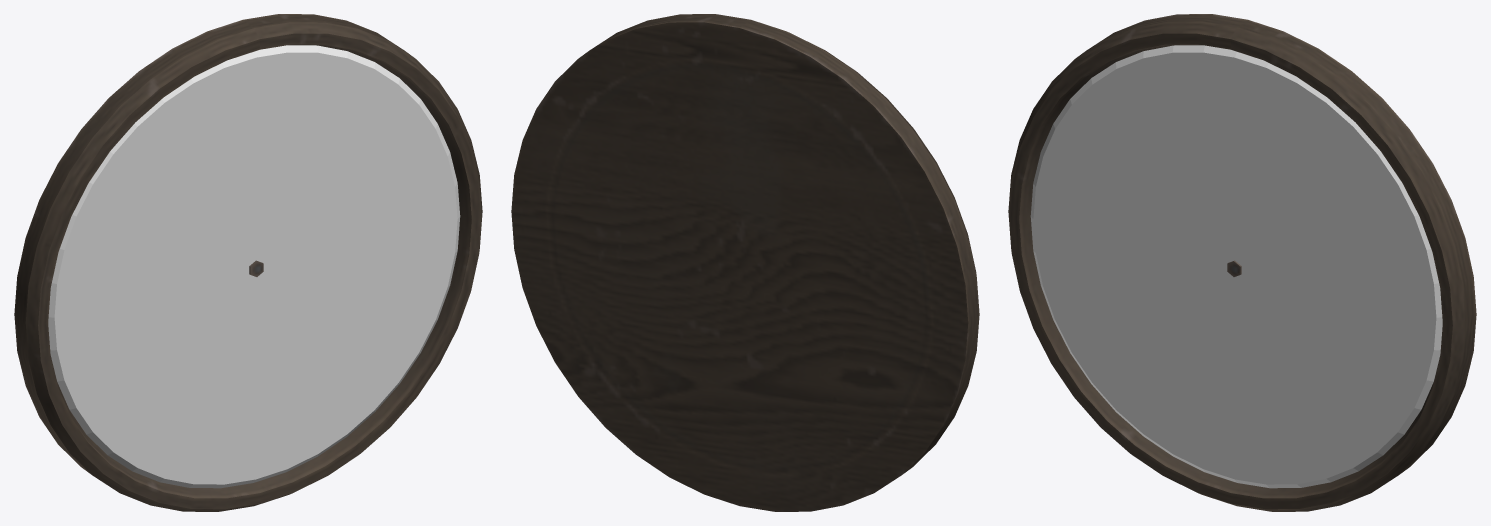
Rendered from SM_Clock.fbx.
3 renders of one model, left to right at view 1: azimuth 30°, elevation 25°; view 2: azimuth 150°, elevation 25°; view 3: azimuth 330°, elevation 25°, orthographic.
Visible parts, largest first — view 1: SM_Clock_LOD0; view 2: SM_Clock_LOD0; view 3: SM_Clock_LOD0.
Boxes of the visible parts, <box> form: SM_Clock_LOD0: <box>14,14,482,511</box>; SM_Clock_LOD0: <box>511,14,979,511</box>; SM_Clock_LOD0: <box>1008,14,1476,511</box>.
Size of the model in its own units: 45.86 by 2.99 by 45.86.
